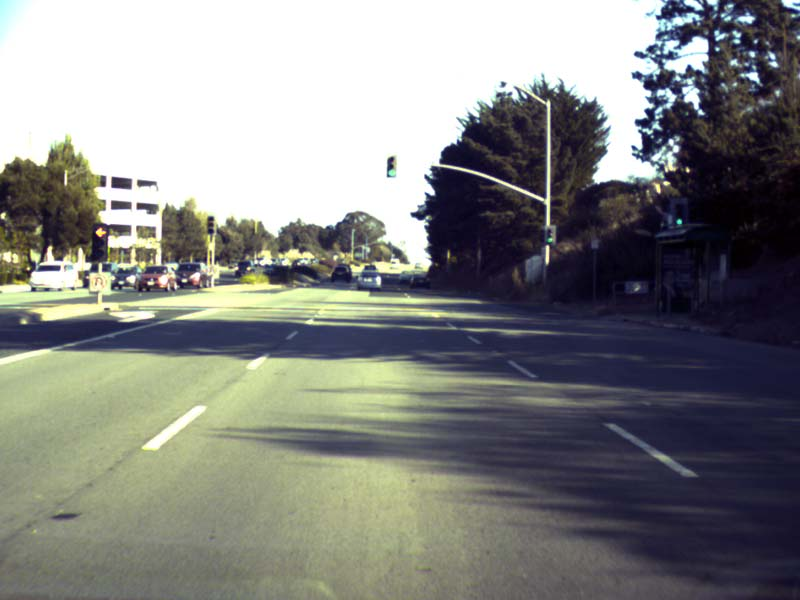Green: (669, 197, 689, 226), (543, 224, 556, 244), (386, 156, 397, 178)
Red: (90, 223, 107, 261)
